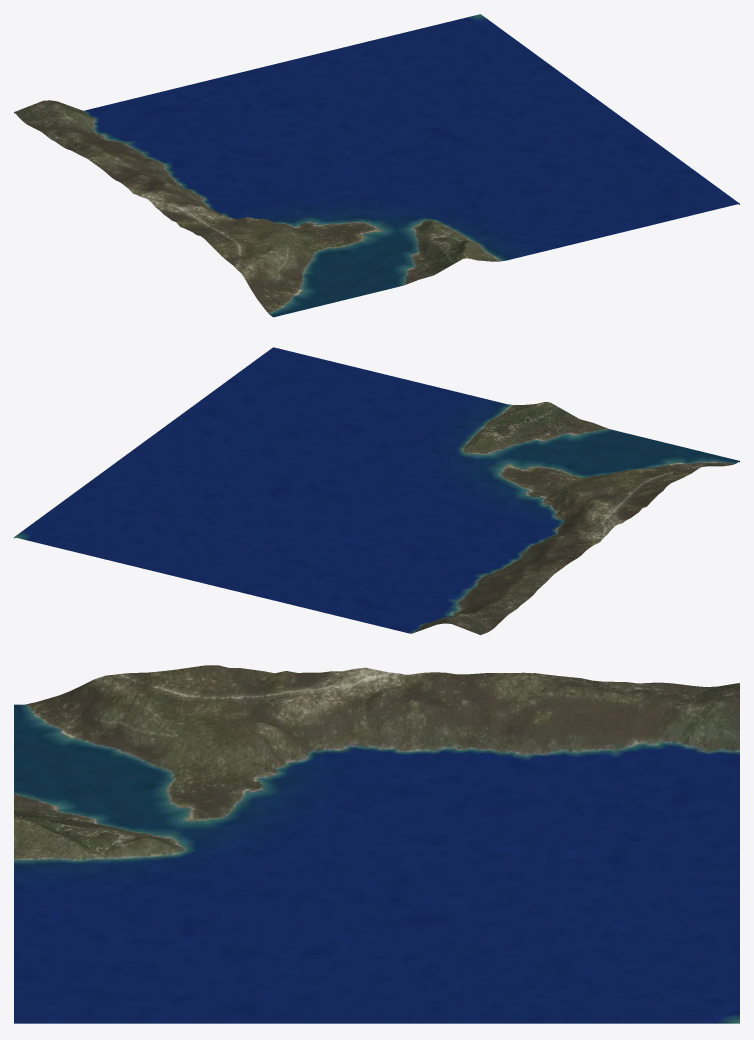
3 views of the same model, one above another, from view 1: azimuth 30°, elevation 25°; view 2: azimuth 150°, elevation 25°; view 3: azimuth 270°, elevation 25° (orthographic). The views are drawn at different scales.
Bounding box in the file's own units: 4000 × 245 × 3850.
Materials: 1 (1 with a texture image).
